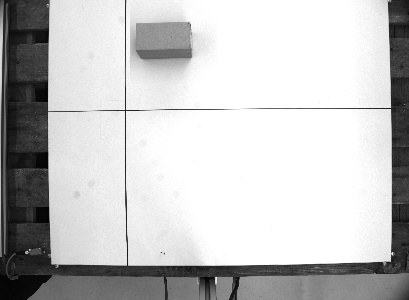b2: (133, 19, 195, 61)
